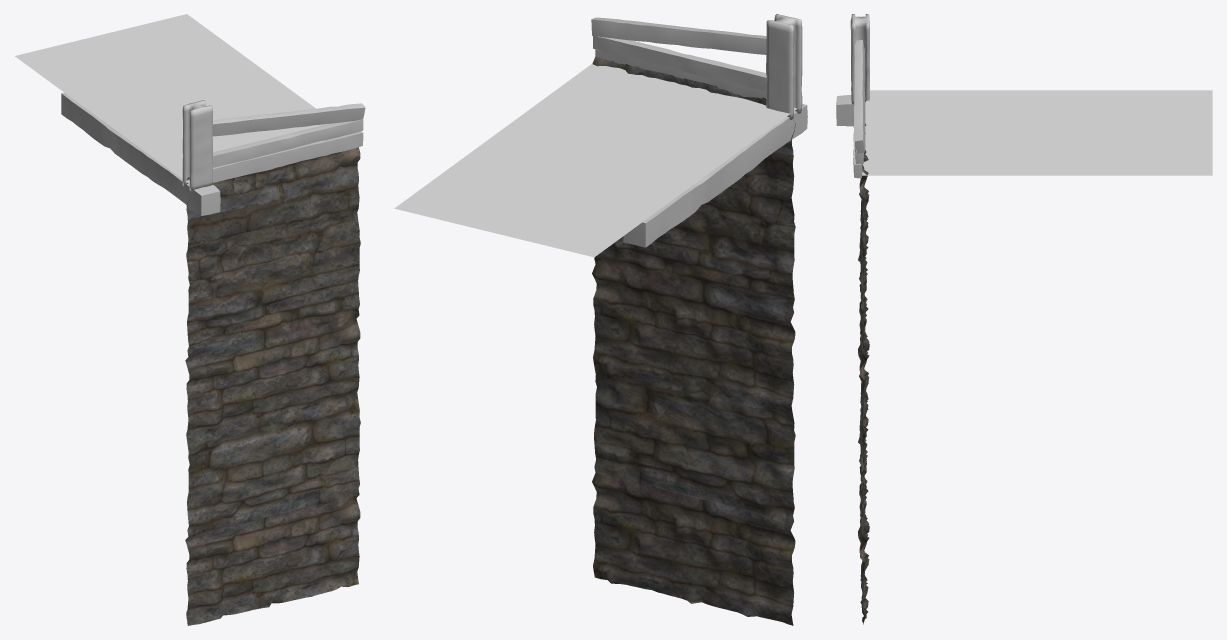
File: Steinmauer_v4_joint.fbx
The picture shows the model from 3 angles, left to right: view 1: azimuth 30°, elevation 25°; view 2: azimuth 150°, elevation 25°; view 3: azimuth 270°, elevation 25°; orthographic projection. The views are drawn at different scales.
Parts seen in each view (by area): view 1: Steinmauer_v4_joint_LOD0; view 2: Steinmauer_v4_joint_LOD0; view 3: Steinmauer_v4_joint_LOD0.
Part boxes in pixels (bbox=[...]): Steinmauer_v4_joint_LOD0: bbox=[15, 14, 365, 625]; Steinmauer_v4_joint_LOD0: bbox=[394, 14, 807, 625]; Steinmauer_v4_joint_LOD0: bbox=[836, 14, 1212, 624].
Size of what is drawn, in the model's own units: 134 by 376 by 243.
